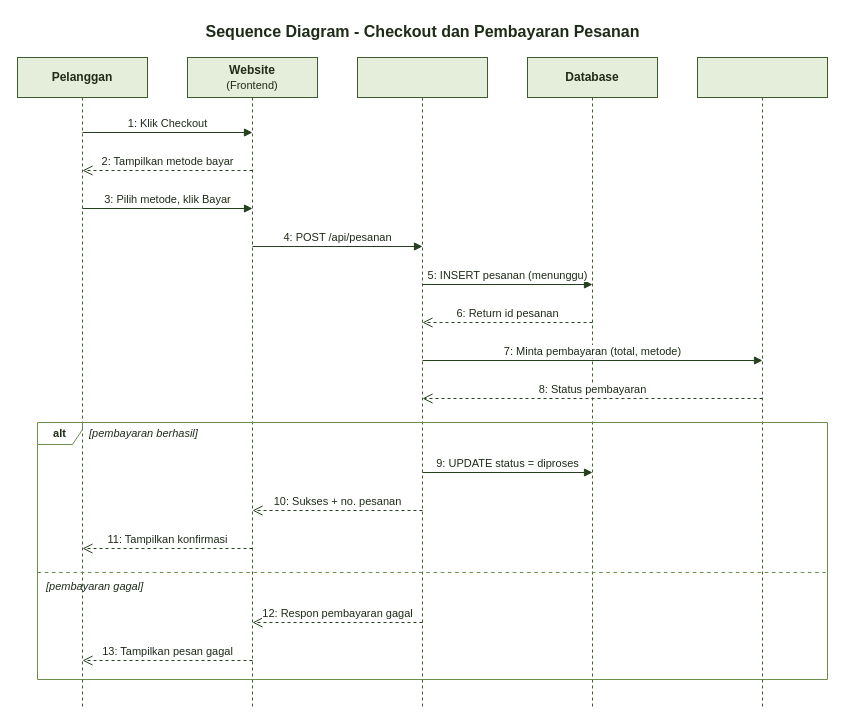
The diagram is 847 pixels wide and 725 high, and some of its shapes have lost their labels. The box of each missing label's shape, as (x1, y1, x2, y2) in pixels:
Backend API: (356, 56, 488, 708)
Payment Gateway: (696, 56, 828, 708)
